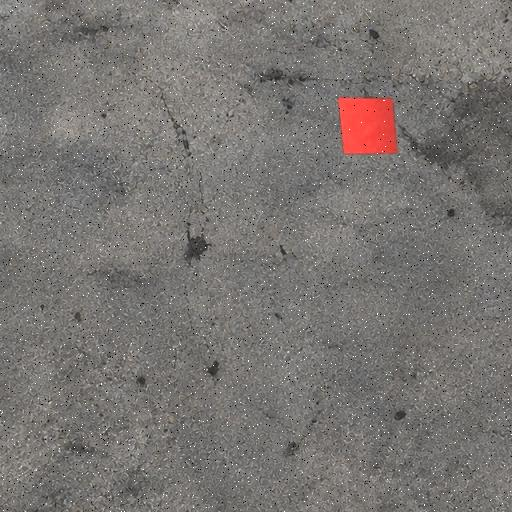RED_SQUARE: (337, 96, 398, 155)
